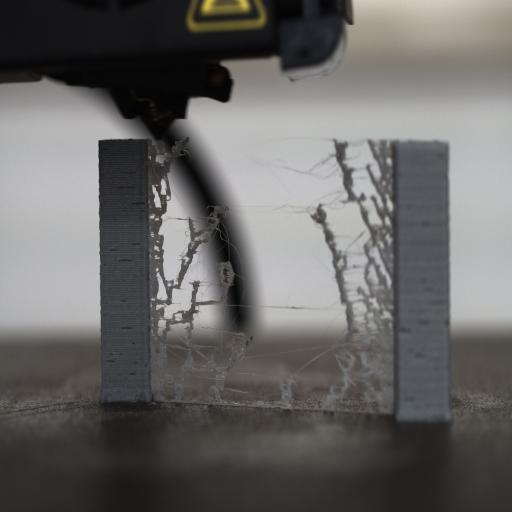stringing: (136, 142, 253, 404), (301, 138, 401, 412)
